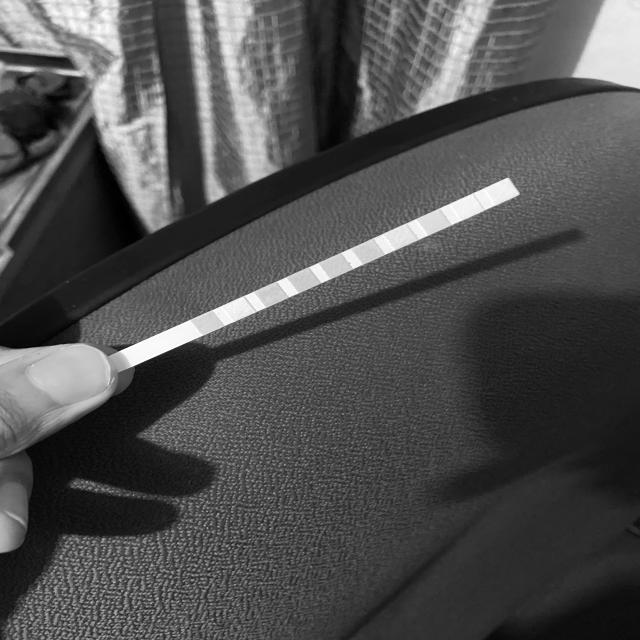Bilirubin: (230, 302, 248, 316)
Blood: (327, 259, 345, 273)
Glucose: (198, 316, 217, 330)
Ketone: (262, 288, 280, 302)
Leukocytes: (493, 184, 513, 198)
Nitrite: (458, 200, 478, 213)
Protein: (392, 230, 412, 243)
SpGravity: (295, 273, 313, 287)
Urobilinogen: (424, 215, 444, 229)
background: (0, 0, 640, 640)
pH: (359, 244, 377, 259)
strip: (117, 177, 521, 369)
